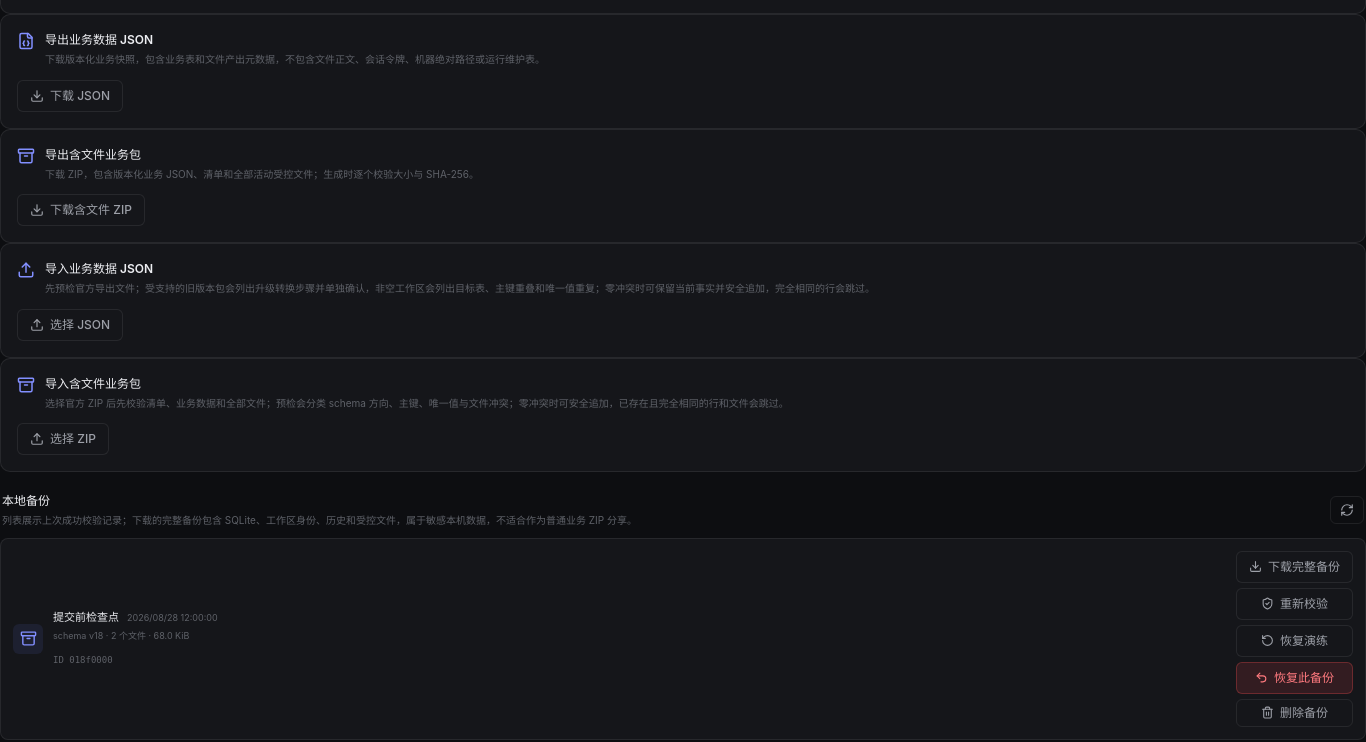
Test: BackupSettings › reports when the runtime cannot save a complete backup
The image size is (1366, 742).
(page scrolled)
What coordinates should you click on to do the following:
click the button with aria-label "下载完整备份 018f0000"
I would click on:
 (1294, 567)
Its box is [1236,551,1353,583].
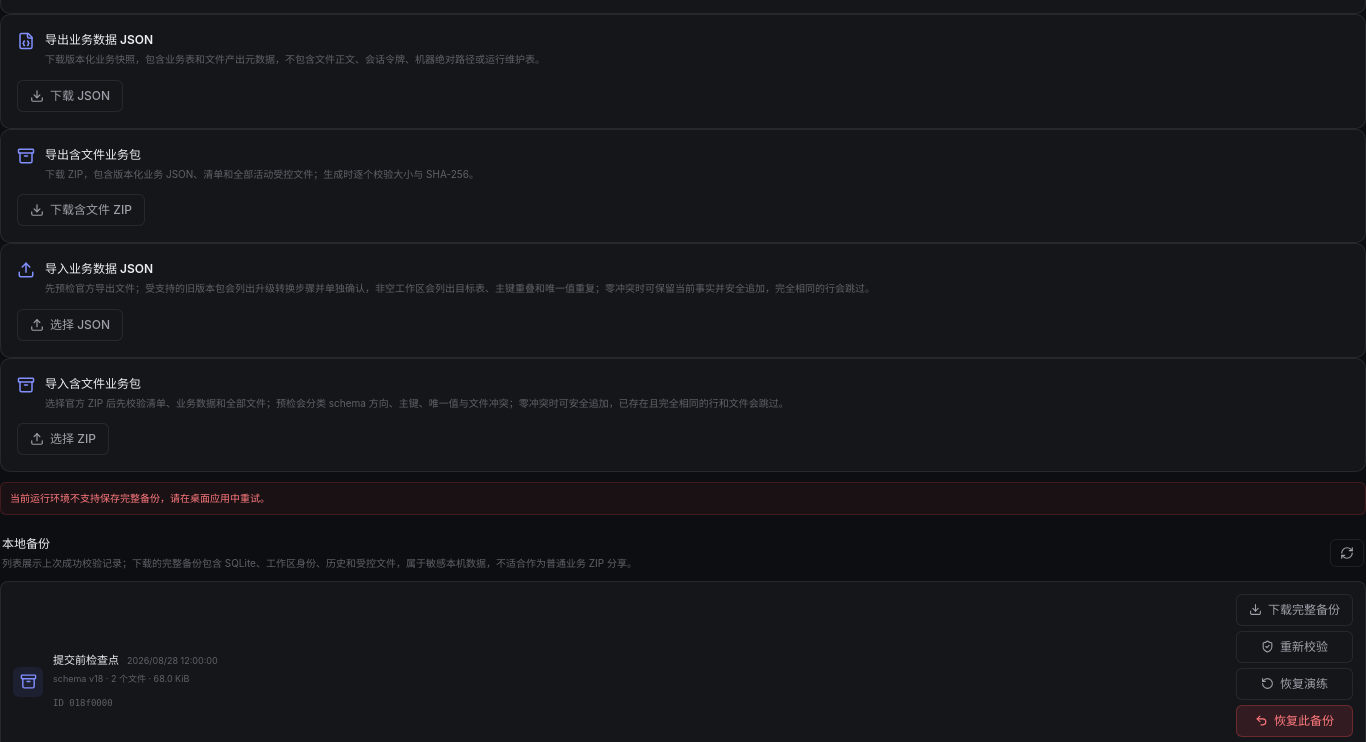
expect the message reads "当前运行环境不支持保存完整备份，请在桌面应用中重试。": met, box [10,492,270,504]
